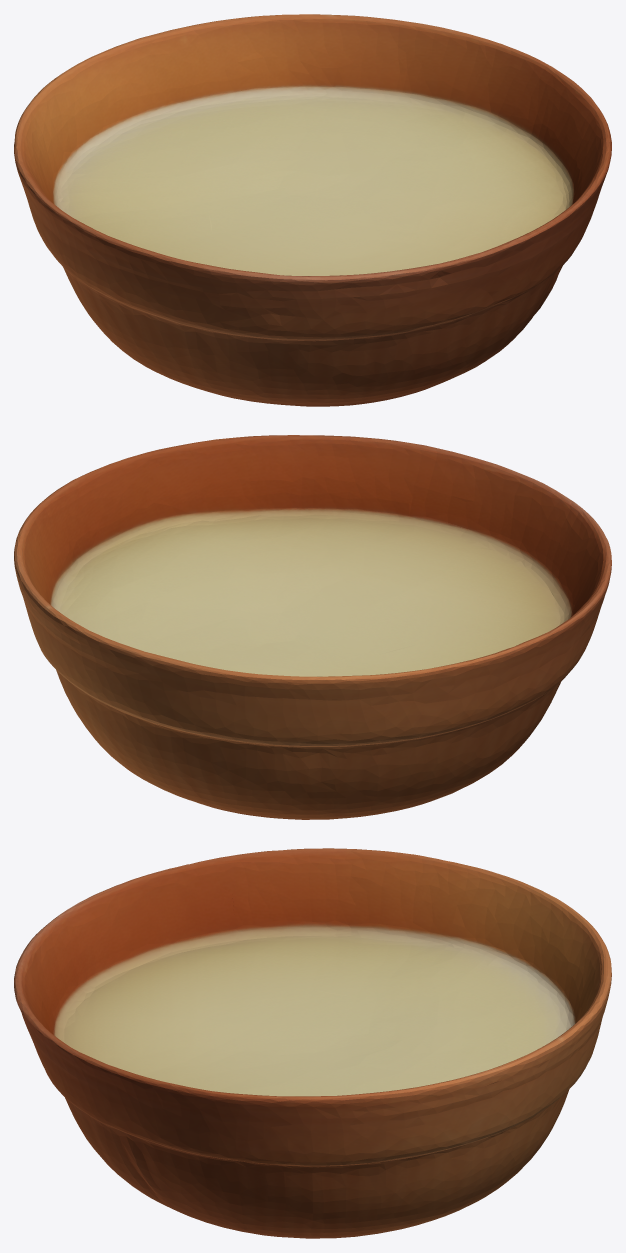
Rendered from to_sua.glb.
3 views of the same model, one above another, from view 1: azimuth 30°, elevation 25°; view 2: azimuth 150°, elevation 25°; view 3: azimuth 270°, elevation 25° (orthographic).
Visible parts, largest first — view 1: world; view 2: world; view 3: world.
Part boxes in pixels (x1=…): world: x1=14, y1=14, x2=611, y2=406; world: x1=14, y1=435, x2=611, y2=819; world: x1=14, y1=848, x2=611, y2=1238.
Bounding box in the file's own units: 0.9992 × 0.3624 × 0.9935.
1 material, 1 textured.
